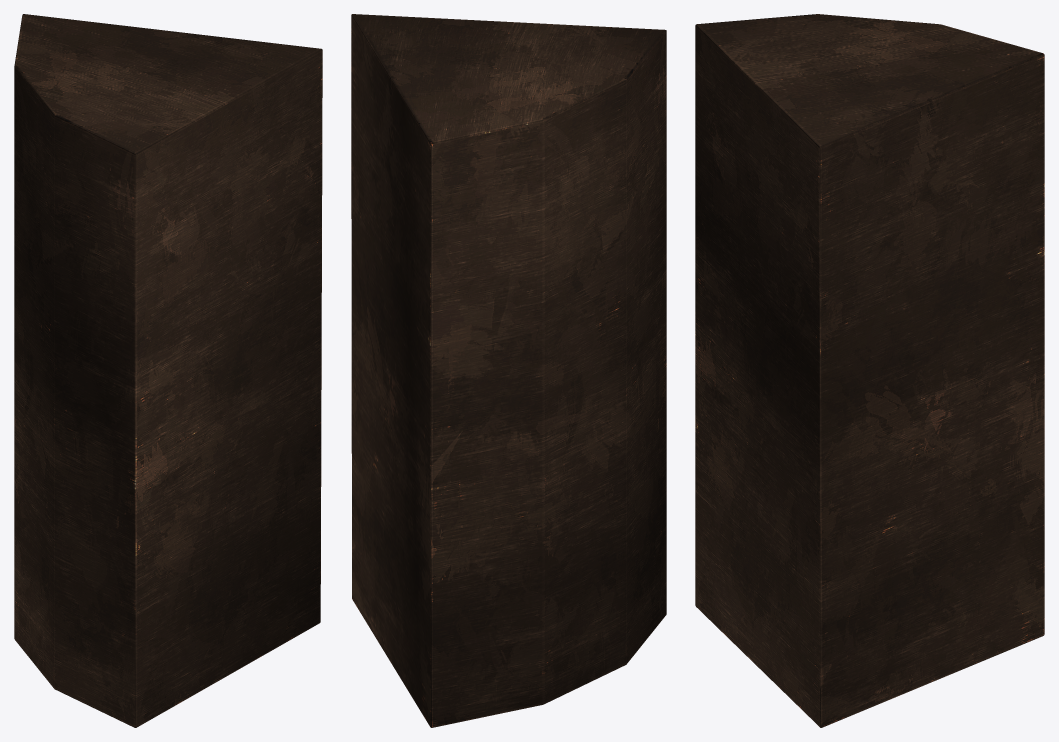
Rendered from FireWood.fbx.
3 renders of one model, left to right at view 1: azimuth 30°, elevation 25°; view 2: azimuth 150°, elevation 25°; view 3: azimuth 270°, elevation 25°, orthographic.
Visible parts, largest first — view 1: Cylinder; view 2: Cylinder; view 3: Cylinder.
Part boxes in pixels (left/top/right/bottom): Cylinder: left=14, top=14, right=322, bottom=727; Cylinder: left=351, top=14, right=666, bottom=727; Cylinder: left=695, top=14, right=1044, bottom=727.
Bounding box in the file's own units: 98.12 × 200 × 109.
